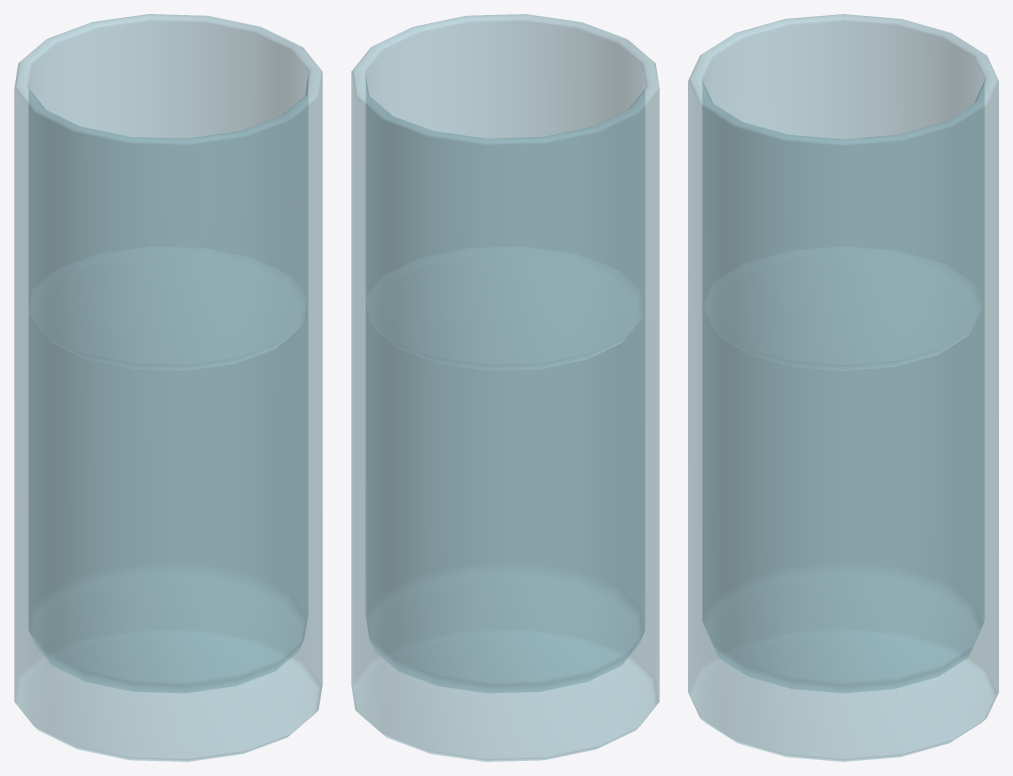
The model's file is consumables-drinks-glassofwater_v3.glb.
3 views of the same model, side by side, from view 1: azimuth 30°, elevation 25°; view 2: azimuth 150°, elevation 25°; view 3: azimuth 270°, elevation 25° (orthographic).
Visible parts, largest first — view 1: GlassOfWater_v3; view 2: GlassOfWater_v3; view 3: GlassOfWater_v3.
Part boxes in pixels (x1,y1,x2,y2): GlassOfWater_v3: (14, 14, 322, 761); GlassOfWater_v3: (351, 14, 659, 761); GlassOfWater_v3: (688, 14, 998, 761).
Bounding box in the file's own units: 0.0158 × 0.0349 × 0.0158.
